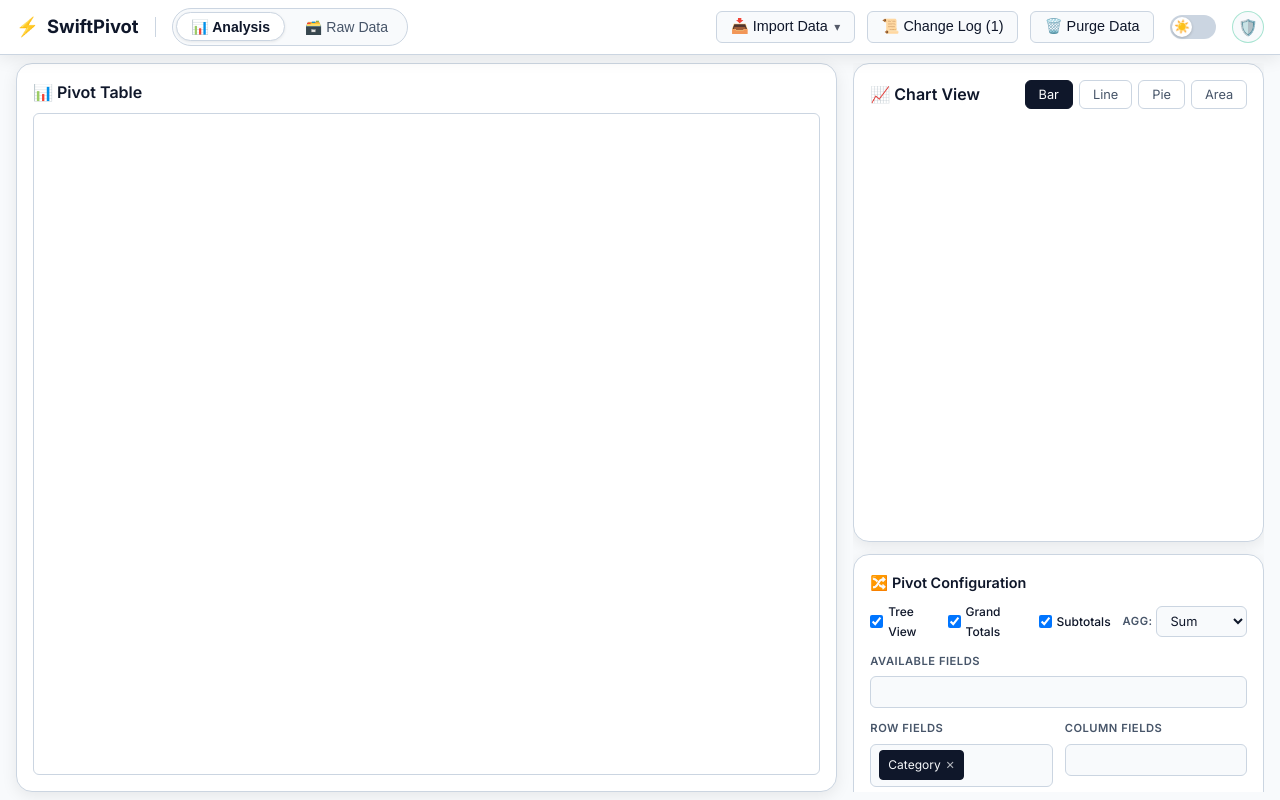
Scenario: App › propagates raw data changes to pivot view and chart and persists to localStorage
The image size is (1280, 800).
# Switch to Raw Data tab
Step 1. Click the button "🗃️ Raw Data" → (346, 27), box [289,12,404,41]
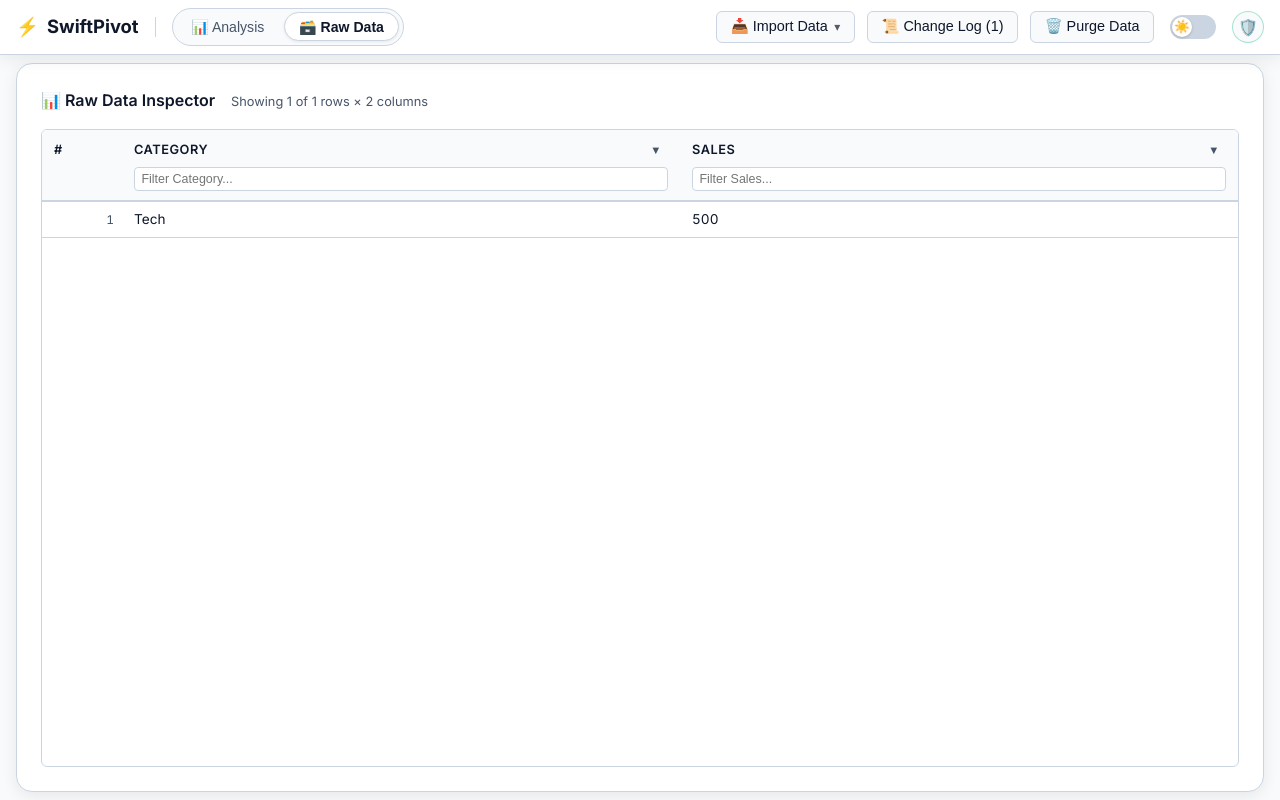
Result: the field with id "cell-0-Sales" is shown
Step 2. Replace the text in the field with id "cell-0-Sales" with "999" → (959, 219), box [692,209,1226,229]
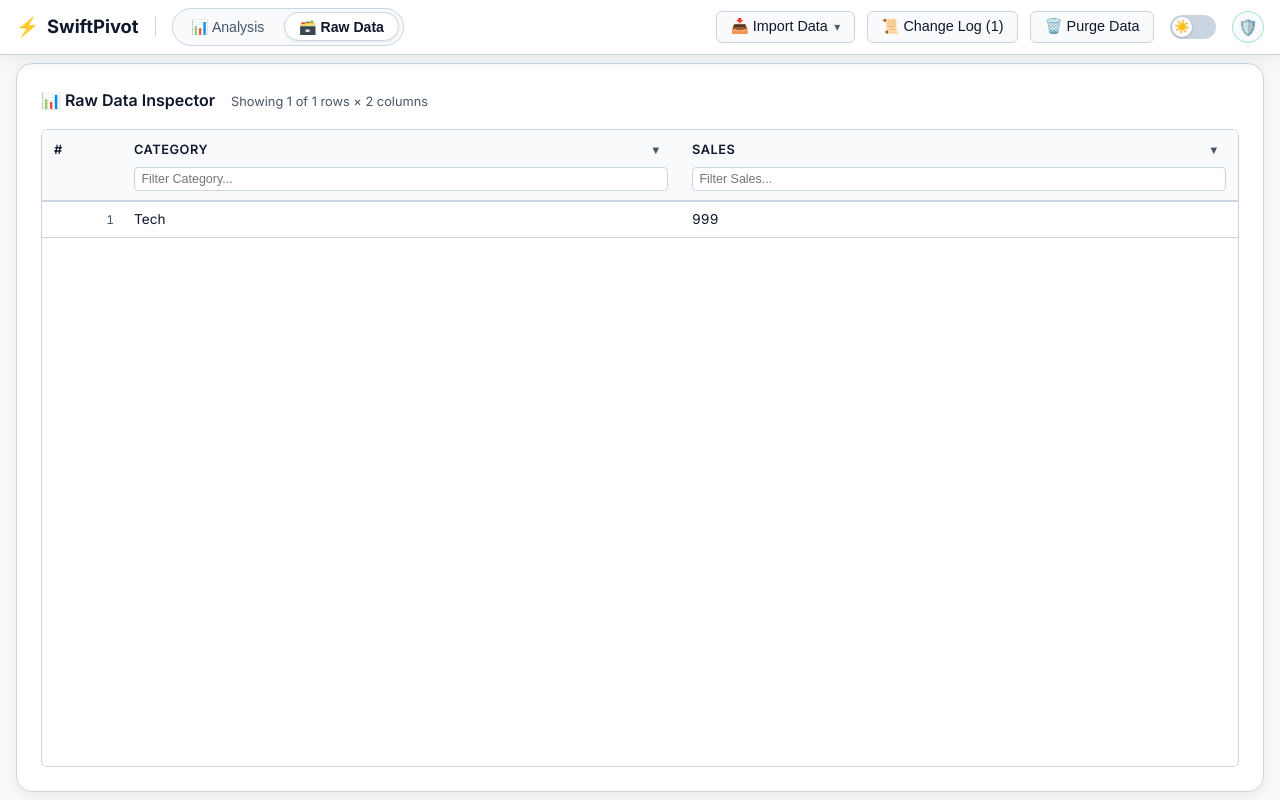
# Switch back to Analysis tab
Step 3. Click the button "📊 Analysis" → (228, 27), box [176,12,280,41]
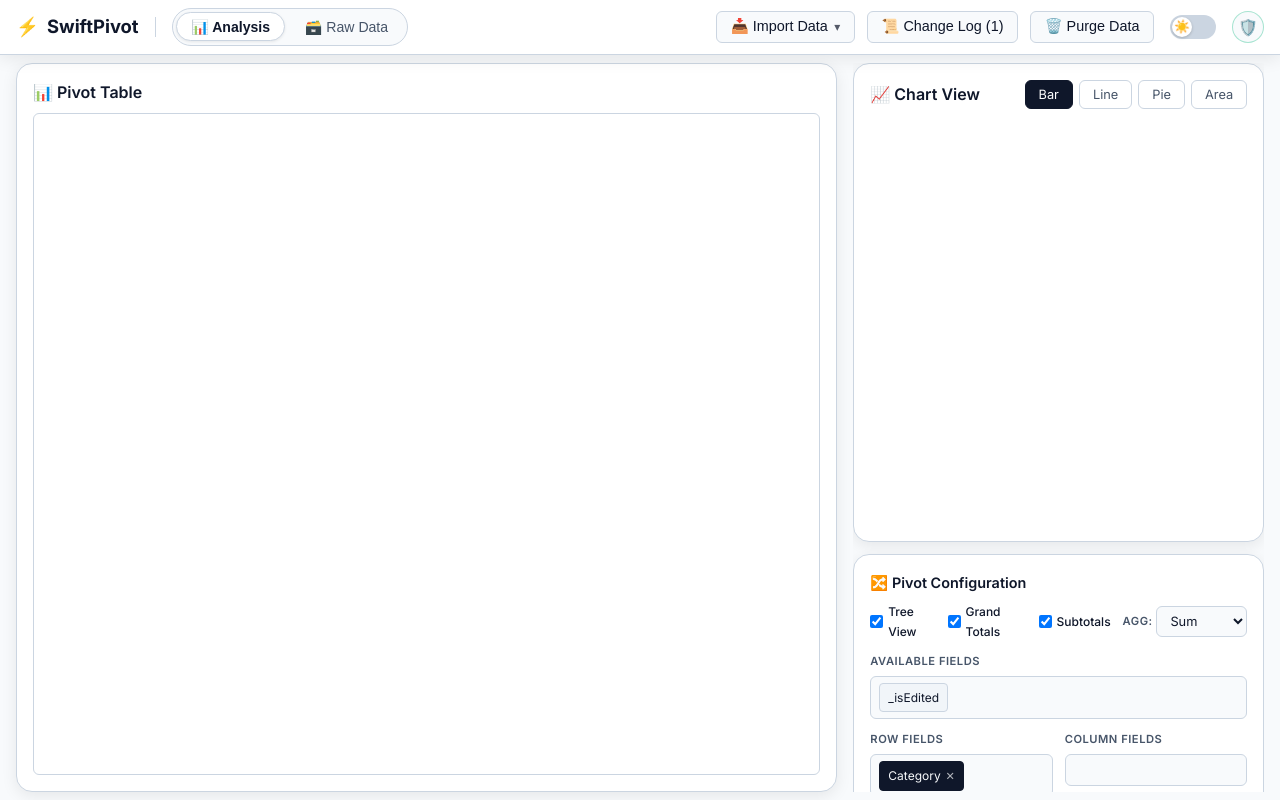
Result: the element with class "dashboard-left-pane" is shown at [16,63,837,792]
